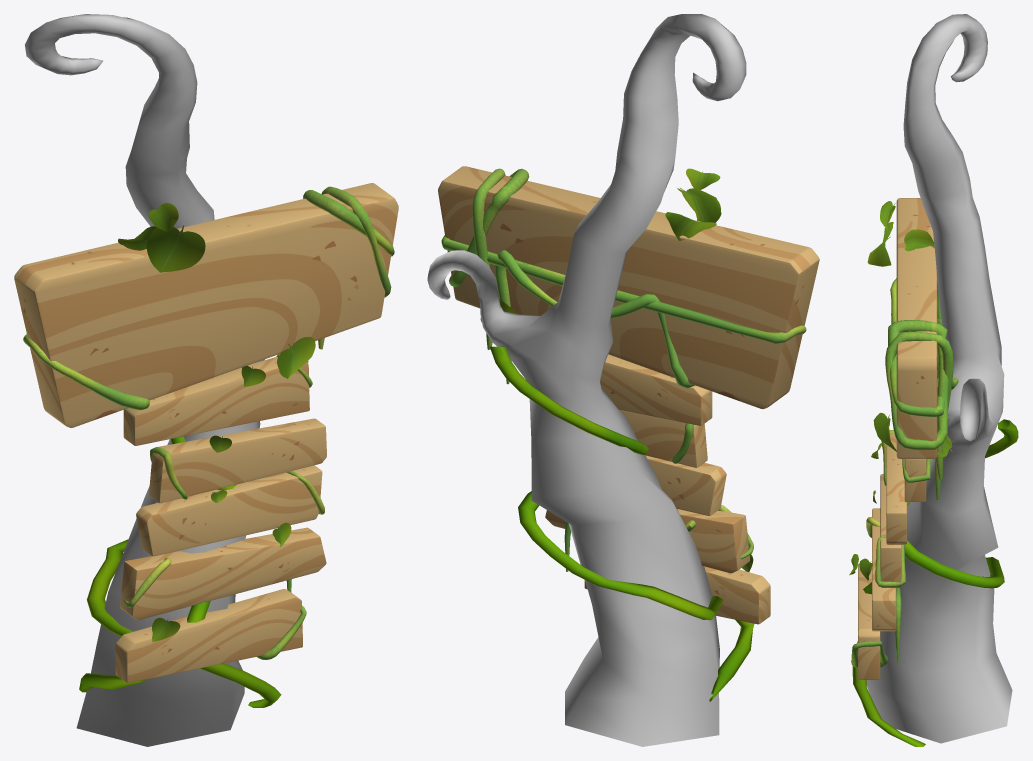
The model's file is Prop_TitleSign.fbx.
3 views of the same model, side by side, from view 1: azimuth 30°, elevation 25°; view 2: azimuth 150°, elevation 25°; view 3: azimuth 270°, elevation 25° (orthographic). The views are drawn at different scales.
Parts seen in each view (by area): view 1: WoodBridge1, Interactive_vine01, WoodBridge010, WoodBridge011, WoodBridge009, WoodBridge013, WoodBridge012, Line001; view 2: Interactive_vine01, WoodBridge1, Line001, WoodBridge013, WoodBridge010, WoodBridge009, WoodBridge011, WoodBridge012; view 3: Interactive_vine01, WoodBridge1, Line001, WoodBridge012, WoodBridge011, WoodBridge010, WoodBridge009, WoodBridge013, Line004, Line002, Line003.
Part boxes in pixels (box(x1,y1,x2,y2)): WoodBridge1: box(14, 183, 398, 427); Interactive_vine01: box(25, 14, 315, 746); WoodBridge010: box(120, 527, 326, 619); WoodBridge011: box(115, 589, 302, 682); WoodBridge009: box(136, 465, 322, 556); WoodBridge013: box(123, 357, 309, 445); WoodBridge012: box(149, 418, 326, 503); Line001: box(23, 186, 394, 410); Interactive_vine01: box(427, 14, 754, 746); WoodBridge1: box(438, 166, 819, 408); Line001: box(441, 168, 806, 388); WoodBridge013: box(600, 354, 712, 425); WoodBridge010: box(545, 509, 749, 573); WoodBridge009: box(645, 455, 726, 515); WoodBridge011: box(584, 566, 770, 624); WoodBridge012: box(620, 409, 707, 467); Interactive_vine01: box(849, 14, 1018, 746); WoodBridge1: box(896, 198, 937, 458); Line001: box(885, 278, 958, 500); WoodBridge012: box(886, 434, 906, 544); WoodBridge011: box(858, 563, 880, 679); WoodBridge010: box(872, 508, 896, 631); WoodBridge009: box(880, 474, 901, 587); WoodBridge013: box(904, 459, 926, 501); Line004: box(875, 534, 906, 587); Line002: box(866, 517, 901, 663); Line003: box(851, 641, 887, 667).
Bounding box in the file's own units: 531 × 995 × 234.
